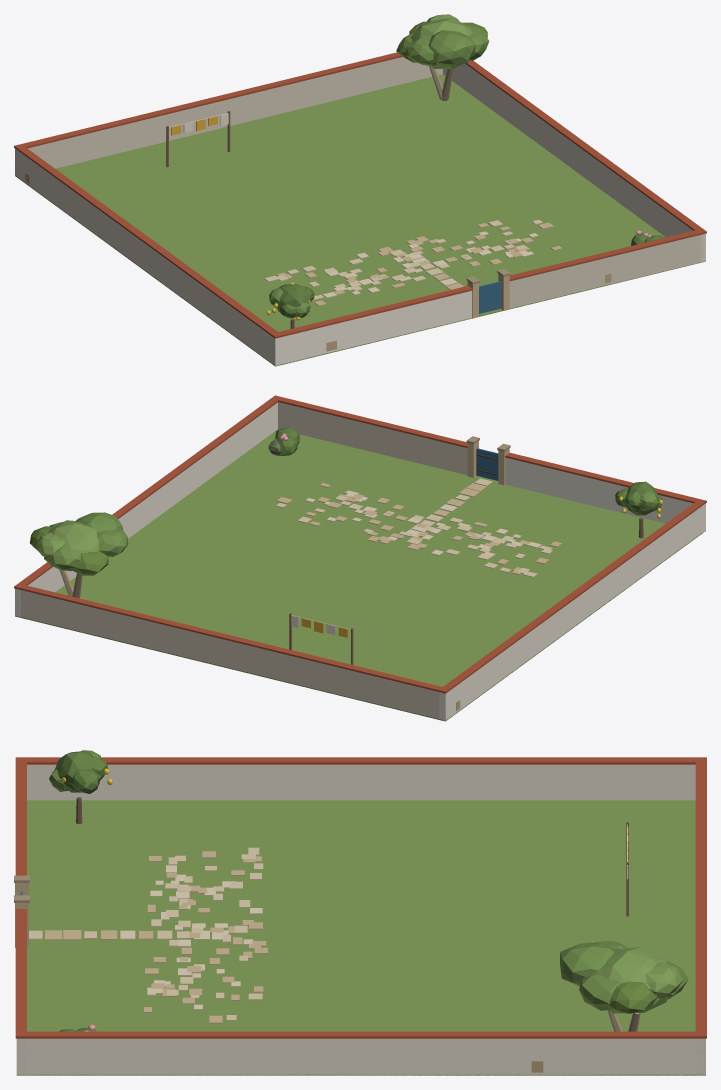
File: bahce-arsasi-avlulu.glb
3 renders of one model, top to bottom at view 1: azimuth 30°, elevation 25°; view 2: azimuth 150°, elevation 25°; view 3: azimuth 270°, elevation 25°, orthographic. The views are drawn at different scales.
Visible parts, largest first — view 1: cim, badana, badana_kir, kiremit2, yaprak1, tas2, tas1, tas4, yaprak2, yaprak3, mavi_kapi, tas_koyu; view 2: cim, badana_kir, badana, kiremit2, tas2, yaprak1, tas1, yaprak3, yaprak2, tas4, asma, mavi_kapi (+1 smaller); view 3: cim, badana, kiremit2, tas2, yaprak1, tas1, yaprak3, tas4, yaprak2, asma, tas_koyu.
Part boxes in pixels (x1,y1,x2,y2): cim: [15, 74, 705, 366]; badana: [15, 63, 705, 365]; badana_kir: [15, 57, 705, 308]; kiremit2: [14, 52, 706, 338]; yaprak1: [269, 21, 489, 317]; tas2: [277, 220, 562, 318]; tas1: [264, 219, 542, 300]; tas4: [322, 231, 538, 297]; yaprak2: [277, 233, 664, 318]; yaprak3: [411, 14, 472, 68]; mavi_kapi: [479, 281, 501, 313]; tas_koyu: [429, 66, 510, 284]; cim: [15, 429, 705, 721]; badana_kir: [15, 402, 467, 720]; badana: [15, 402, 705, 720]; kiremit2: [14, 395, 706, 693]; tas2: [277, 441, 562, 574]; yaprak1: [44, 491, 657, 570]; tas1: [276, 478, 552, 577]; yaprak3: [37, 520, 98, 570]; yaprak2: [275, 427, 662, 515]; tas4: [305, 490, 541, 558]; asma: [29, 526, 108, 575]; mavi_kapi: [476, 448, 498, 480]; cim: [17, 800, 705, 1075]; badana: [16, 764, 705, 1075]; kiremit2: [15, 757, 706, 1038]; tas2: [15, 851, 267, 1023]; yaprak1: [49, 750, 688, 1010]; tas1: [29, 847, 263, 1020]; yaprak3: [594, 947, 682, 1013]; tas4: [120, 865, 262, 1009]; yaprak2: [55, 750, 108, 1031]; asma: [608, 981, 657, 1013]; tas_koyu: [14, 875, 640, 1031].
Size of the model in its own units: 21.66 by 3.75 by 22.11.
